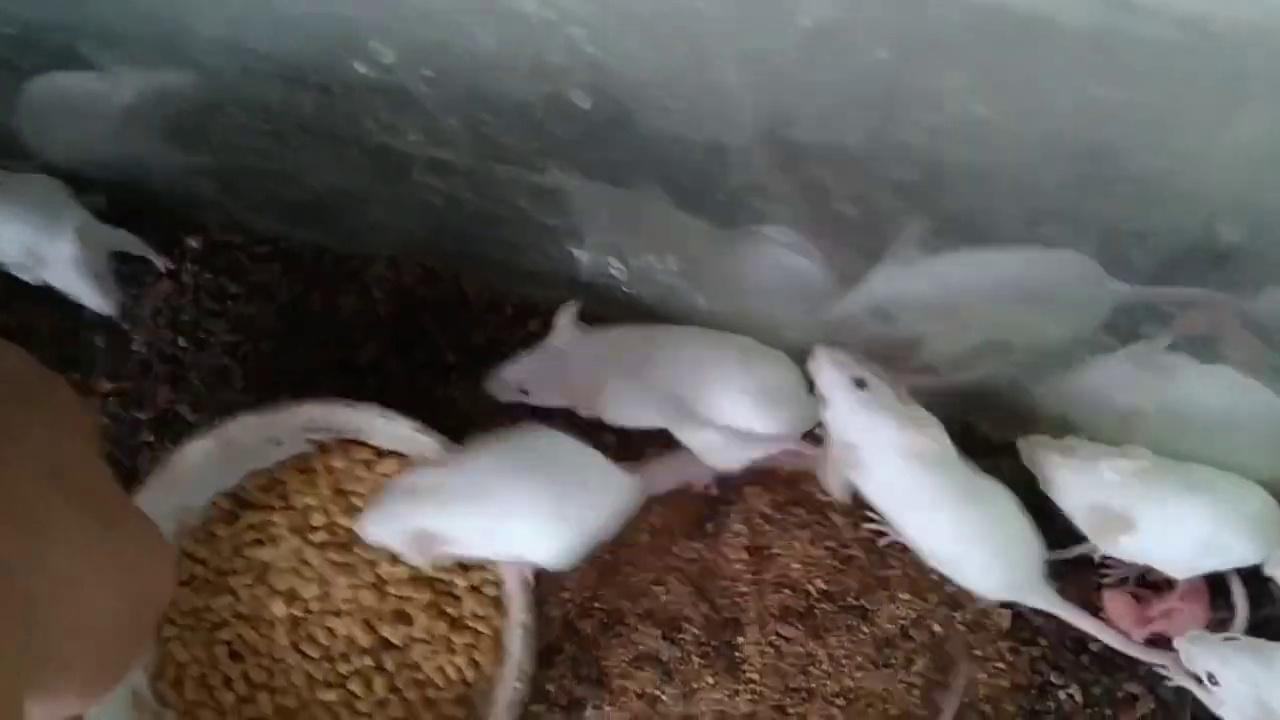rat: (808, 343, 1048, 600), (486, 297, 812, 472), (350, 419, 647, 582), (1019, 432, 1280, 588), (0, 172, 175, 322), (1154, 626, 1280, 720)
